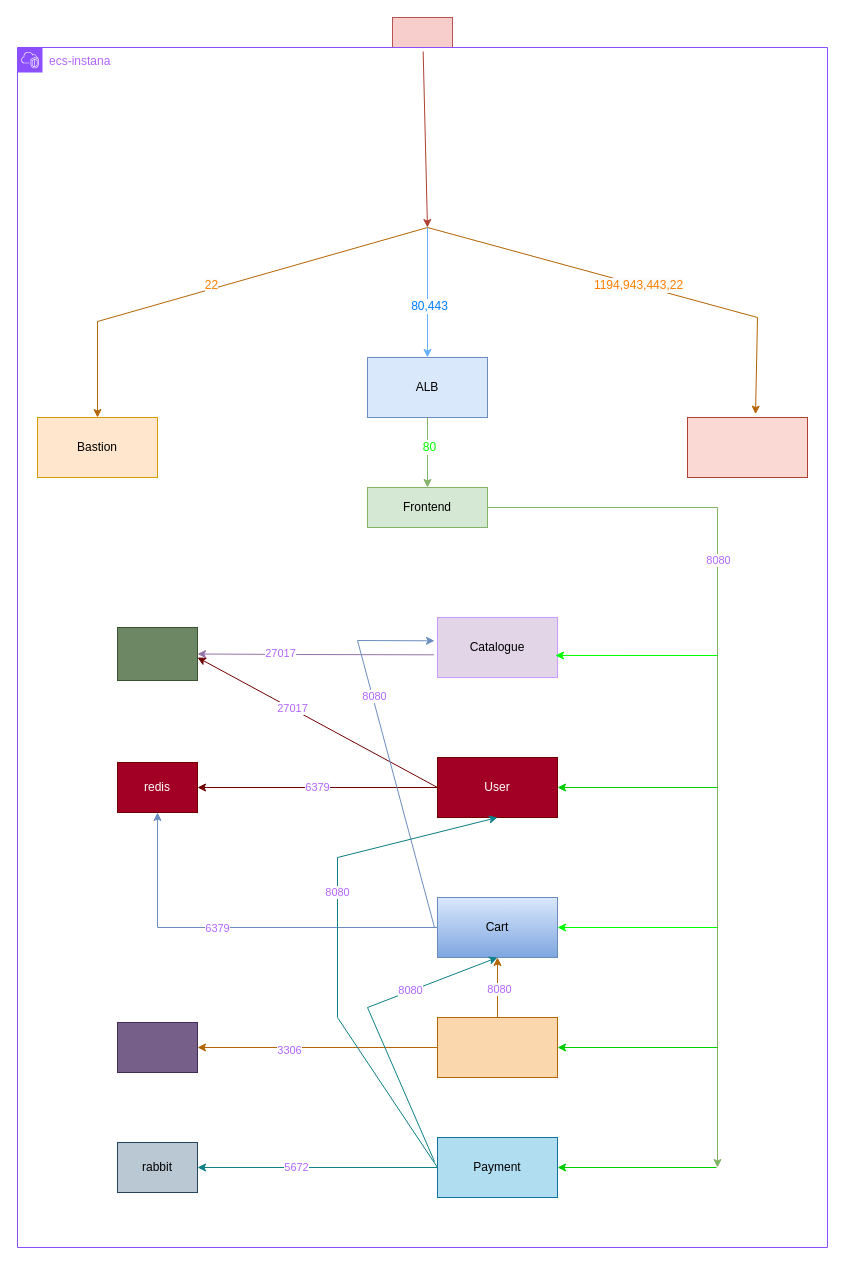
This 845x1265 diagram has some shape labels left out. The shapes that lost their labels are listed below. From the top down, each one's centre as x and y in pixels, then its label:
At point (422, 32): "Internet".
At point (747, 447): "VPN".
At point (157, 653): "mongo".
At point (157, 1047): "mysql".
At point (497, 1047): "Shipping".
